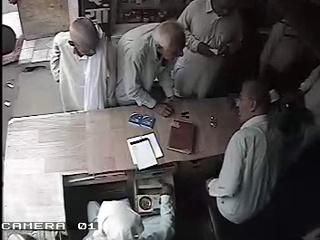Normal: (205, 80, 282, 239), (172, 0, 244, 100), (115, 20, 187, 118), (49, 17, 117, 112)
